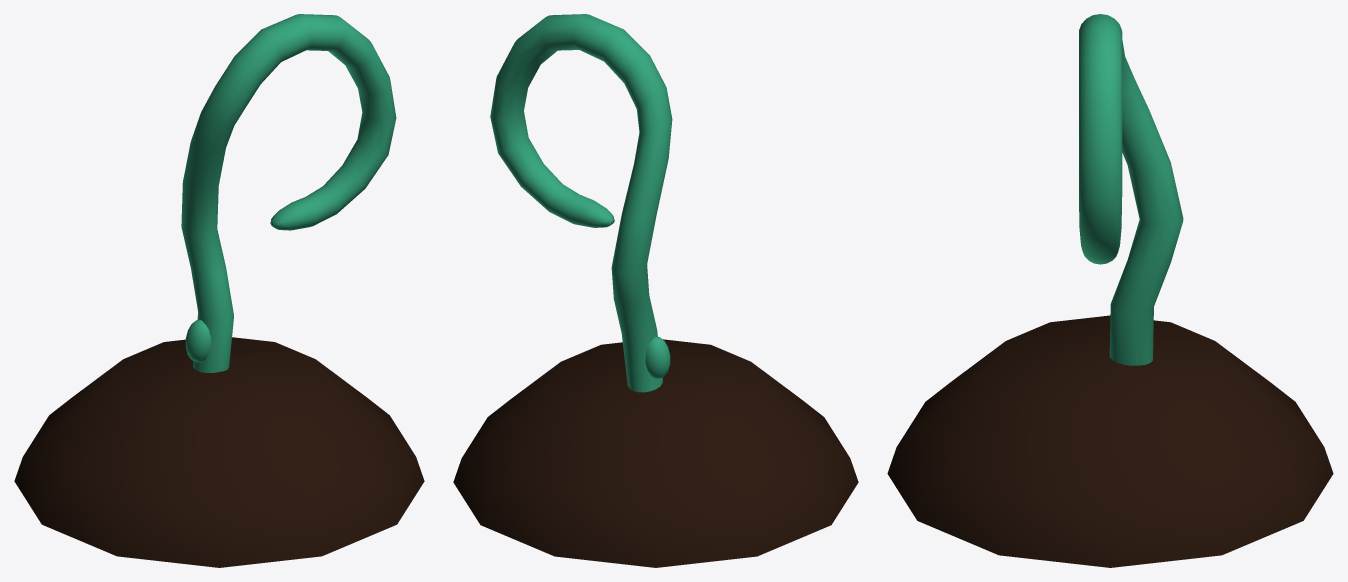
The picture shows the model from 3 angles, left to right: view 1: azimuth 30°, elevation 25°; view 2: azimuth 150°, elevation 25°; view 3: azimuth 270°, elevation 25°; orthographic projection. The views are drawn at different scales.
Parts seen in each view (by area): view 1: erde, 2; view 2: erde, 2; view 3: erde, 2.
Part boxes in pixels (<box>): erde: <box>14,337,424,567</box>; 2: <box>181,14,396,372</box>; erde: <box>453,339,858,567</box>; 2: <box>490,14,672,392</box>; erde: <box>887,315,1333,567</box>; 2: <box>1079,14,1183,365</box>.
Bounding box in the file's own units: 0.7405 × 0.8959 × 0.7405.
